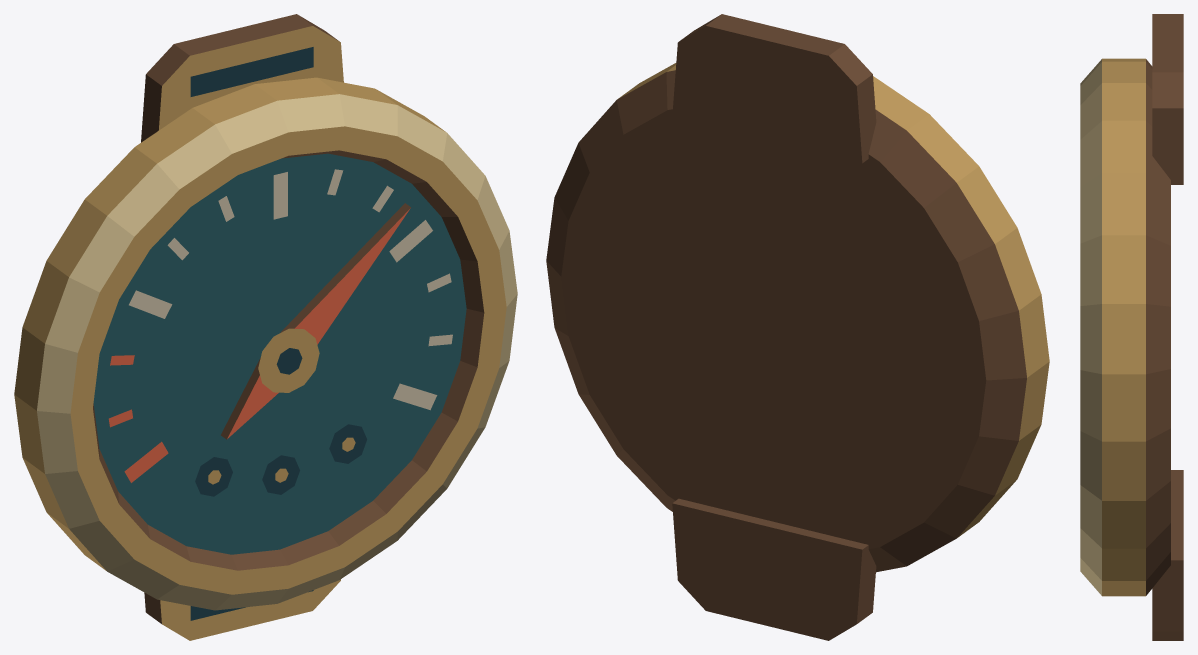
File: phase-dial.glb
3 views of the same model, side by side, from view 1: azimuth 30°, elevation 25°; view 2: azimuth 150°, elevation 25°; view 3: azimuth 270°, elevation 25° (orthographic). The views are drawn at different scales.
Parts seen in each view (by area): view 1: TidalSoundGauge; view 2: TidalSoundGauge; view 3: TidalSoundGauge.
Boxes of the visible parts, box(x1,y1,x2,y2) form: TidalSoundGauge: box(14, 14, 517, 640); TidalSoundGauge: box(546, 14, 1049, 640); TidalSoundGauge: box(1080, 14, 1183, 640).
Bounding box in the file's own units: 0.086 × 0.1 × 0.0168.
